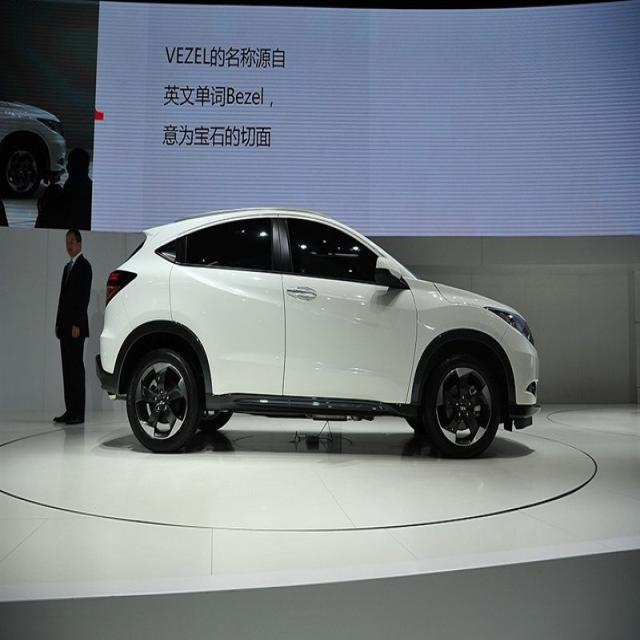back_right_side_light: (102, 266, 140, 308)
door: (170, 218, 289, 402)
front_right_side_door: (276, 210, 419, 406)
front_right_side_light: (485, 302, 537, 349)
front_right_side_mirror: (374, 252, 403, 286)
wheel: (126, 346, 196, 452), (430, 355, 498, 455)
